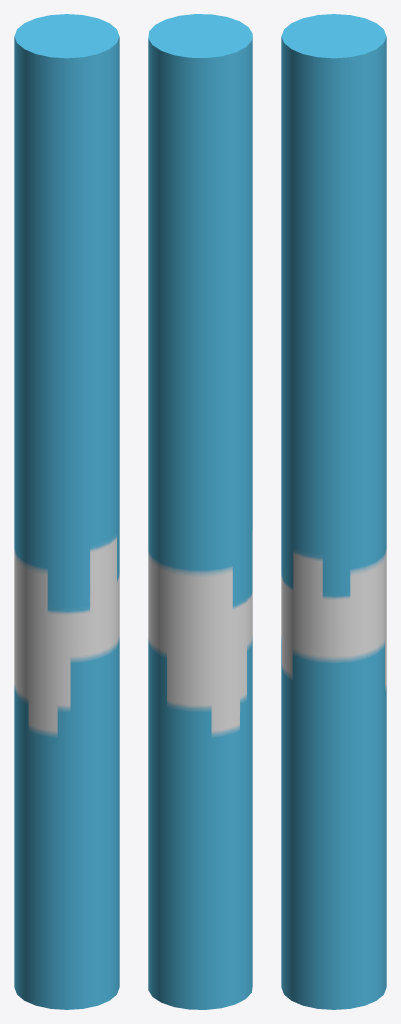
File: waterfall_idle.fbx
3 views of the same model, side by side, from view 1: azimuth 90°, elevation 25°; view 2: azimuth 150°, elevation 25°; view 3: azimuth 270°, elevation 25° (orthographic).
Parts seen in each view (by area): view 1: waterfall; view 2: waterfall; view 3: waterfall.
Part boxes in pixels (<box>): waterfall: <box>14,14,119,1009</box>; waterfall: <box>148,14,252,1009</box>; waterfall: <box>281,14,386,1009</box>.
Bounding box in the file's own units: 2 × 20 × 2.
1 material, 1 textured.
